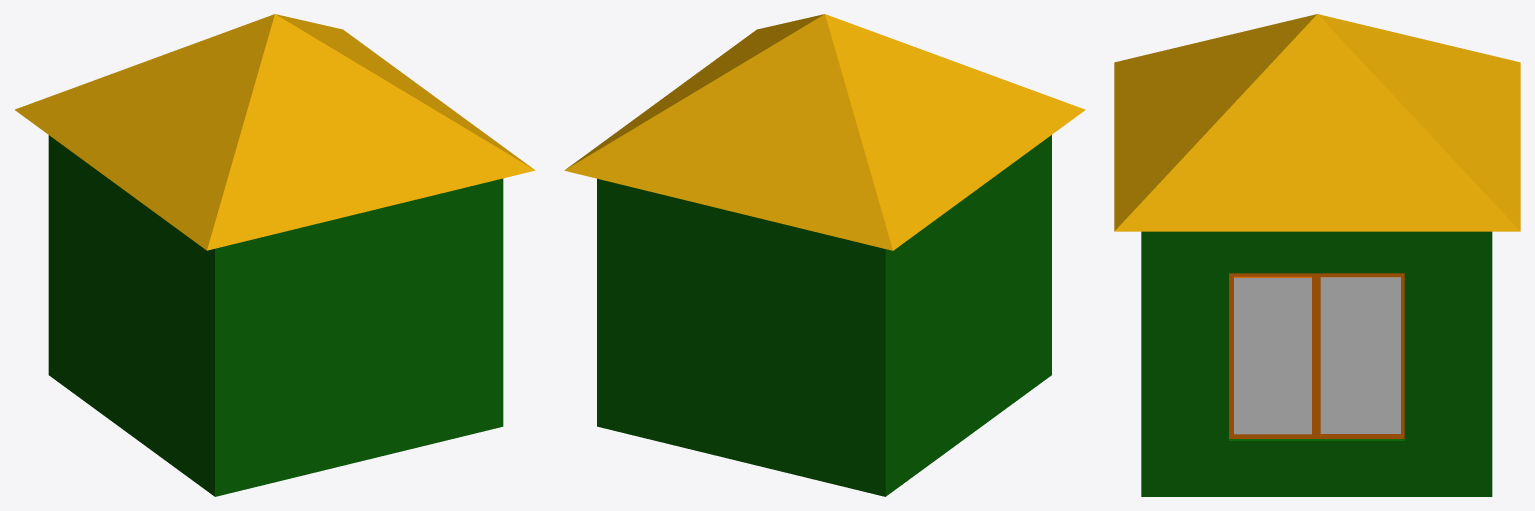
Rendered from unfinishedBuilding.fbx.
The picture shows the model from 3 angles, left to right: view 1: azimuth 30°, elevation 25°; view 2: azimuth 150°, elevation 25°; view 3: azimuth 270°, elevation 25°; orthographic projection. The views are drawn at different scales.
Visible parts, largest first — view 1: Building, Roof; view 2: Building, Roof; view 3: Roof, Building, RightWindow, LeftWindow, LeftRama, RightRama.
Part boxes in pixels (box(x1,y1,x2,y2)): Building: box(48, 135, 503, 496); Roof: box(14, 14, 535, 250); Building: box(597, 135, 1051, 496); Roof: box(564, 14, 1085, 250); Roof: box(1114, 14, 1520, 231); Building: box(1141, 231, 1492, 496); RightWindow: box(1320, 277, 1400, 433); LeftWindow: box(1234, 278, 1311, 434); LeftRama: box(1229, 273, 1316, 438); RightRama: box(1317, 273, 1404, 438).
Size of the model in its own units: 792 by 890 by 803.
